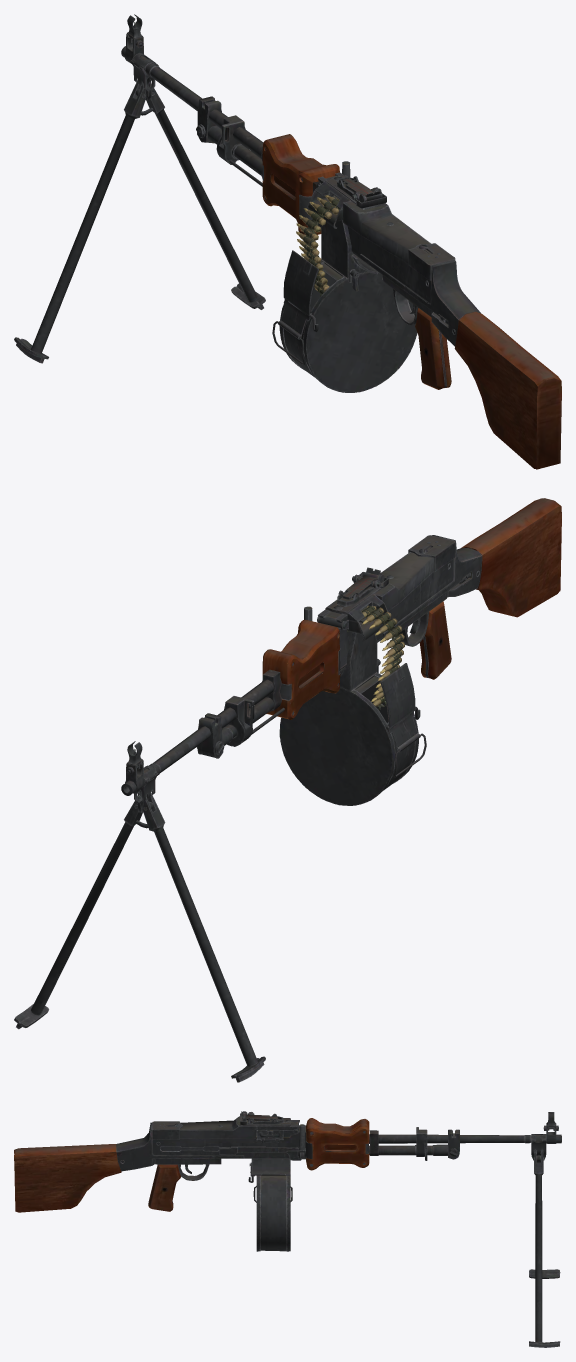
The model's file is rpd_lod.glb.
3 views of the same model, one above another, from view 1: azimuth 30°, elevation 25°; view 2: azimuth 150°, elevation 25°; view 3: azimuth 270°, elevation 25° (orthographic). The views are drawn at different scales.
Parts seen in each view (by area): view 1: rpd_body, box, cover; view 2: rpd_body, box, cover; view 3: rpd_body, box, cover.
Boxes of the visible parts, <box> form: rpd_body: <box>14,14,561,469</box>; box: <box>272,195,417,392</box>; cover: <box>315,172,386,209</box>; rpd_body: <box>14,498,561,1082</box>; box: <box>279,605,426,805</box>; cover: <box>318,567,388,624</box>; rpd_body: <box>14,1112,561,1347</box>; box: <box>248,1130,292,1251</box>; cover: <box>240,1111,299,1130</box>.
Bounding box in the file's own units: 0.3282 × 0.4184 × 1.04.
Materials: 1 (1 with a texture image).
